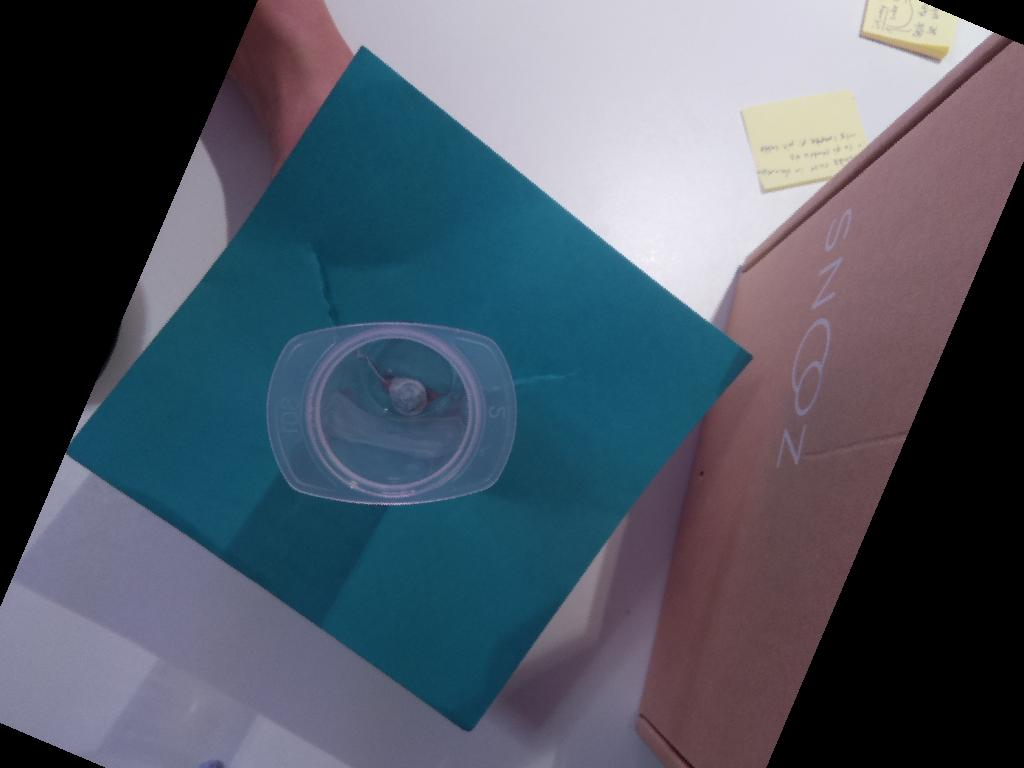clean: (263, 320, 518, 508)
